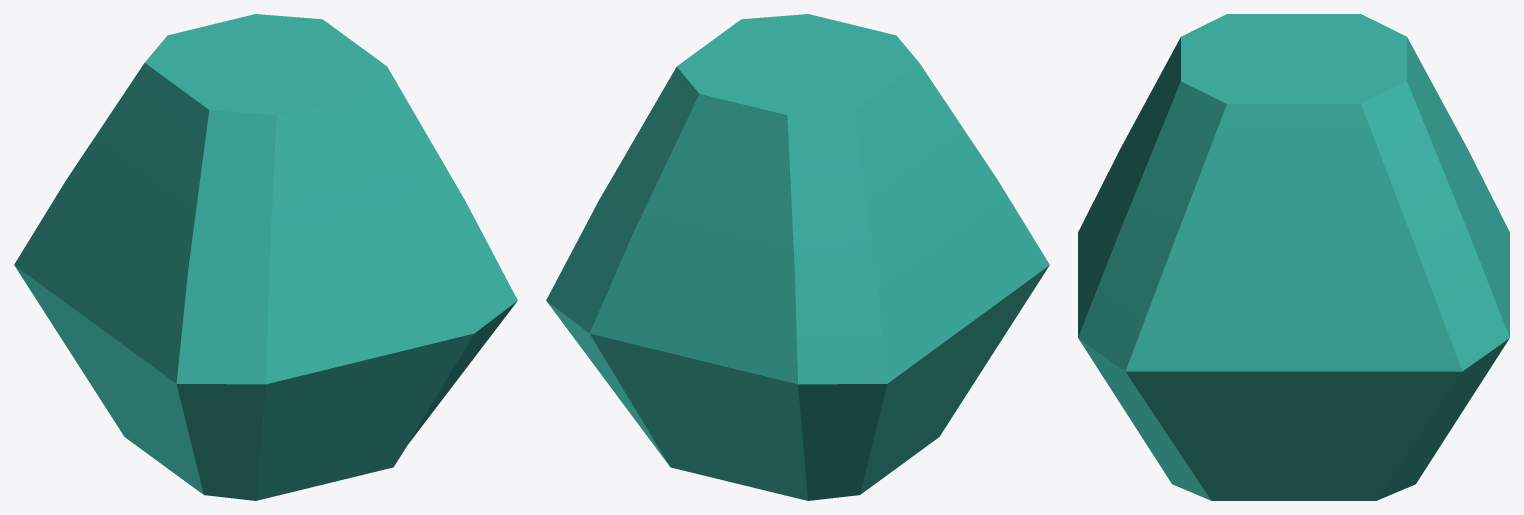
Rendered from liquid.fbx.
The picture shows the model from 3 angles, left to right: view 1: azimuth 30°, elevation 25°; view 2: azimuth 150°, elevation 25°; view 3: azimuth 270°, elevation 25°; orthographic projection. The views are drawn at different scales.
Visible parts, largest first — view 1: polySurface1; view 2: polySurface1; view 3: polySurface1.
Part boxes in pixels (x1=…): polySurface1: x1=14, y1=14, x2=517, y2=500; polySurface1: x1=546, y1=14, x2=1049, y2=500; polySurface1: x1=1078, y1=14, x2=1509, y2=500.
Size of the model in its own units: 3.08 by 3.25 by 3.26.
